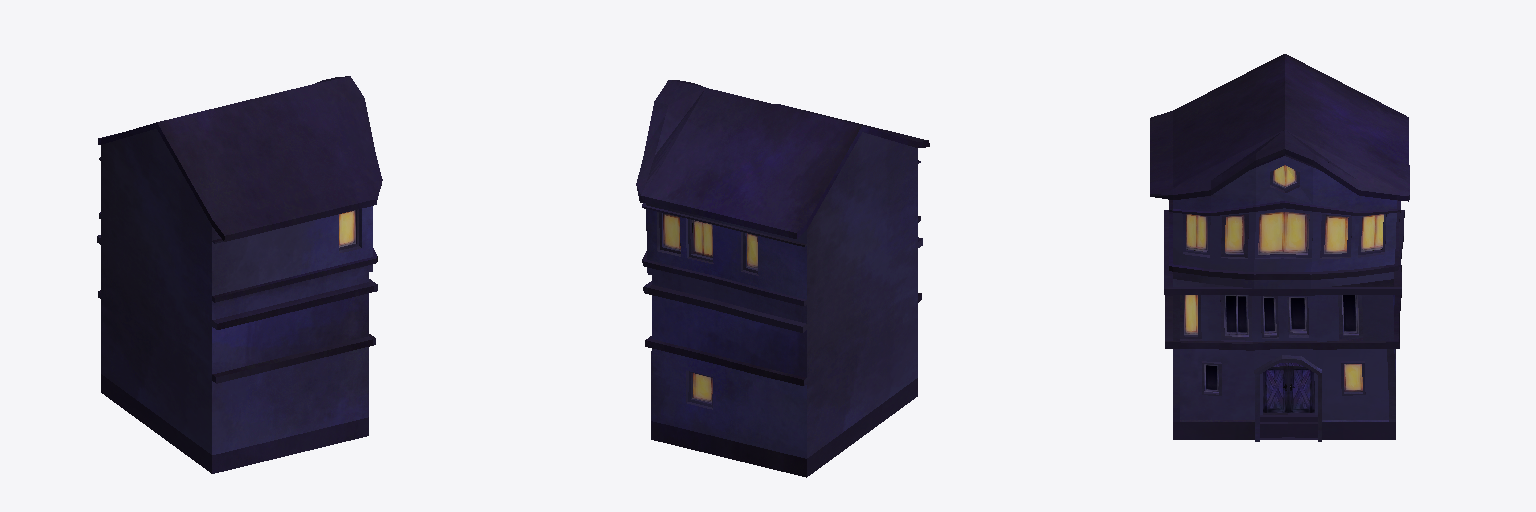
3 views of the same model, side by side, from view 1: azimuth 30°, elevation 25°; view 2: azimuth 150°, elevation 25°; view 3: azimuth 270°, elevation 25° (orthographic).
Parts seen in each view (by area): view 1: H3; view 2: H3; view 3: H3.
Boxes of the visible parts, x1=… form: H3: x1=97, y1=76, x2=382, y2=473; H3: x1=636, y1=80, x2=929, y2=477; H3: x1=1150, y1=54, x2=1409, y2=441.
Size of the model in its own units: 18.1 by 27.76 by 21.04.
3 materials, 3 textured.